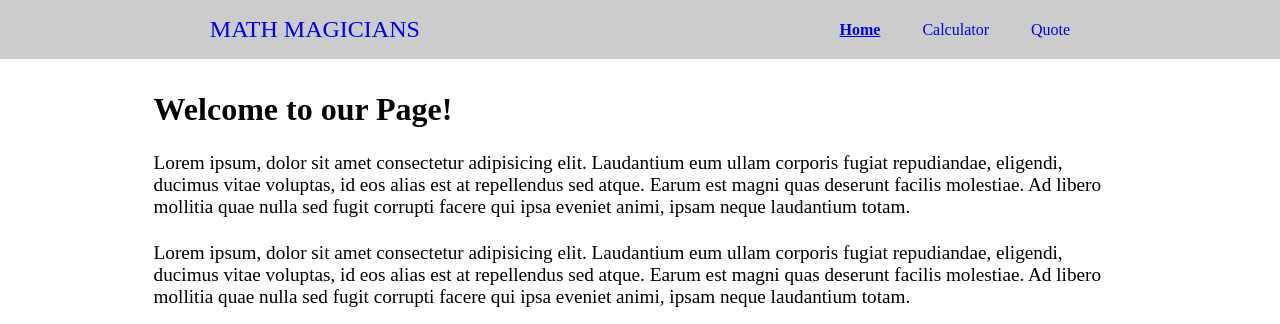
Scenario: Testing Component render correctly › NavBar interaction, quote link
The image size is (1280, 324).
Click the link "Quote": [1051, 29] box [1031,20,1070,38]
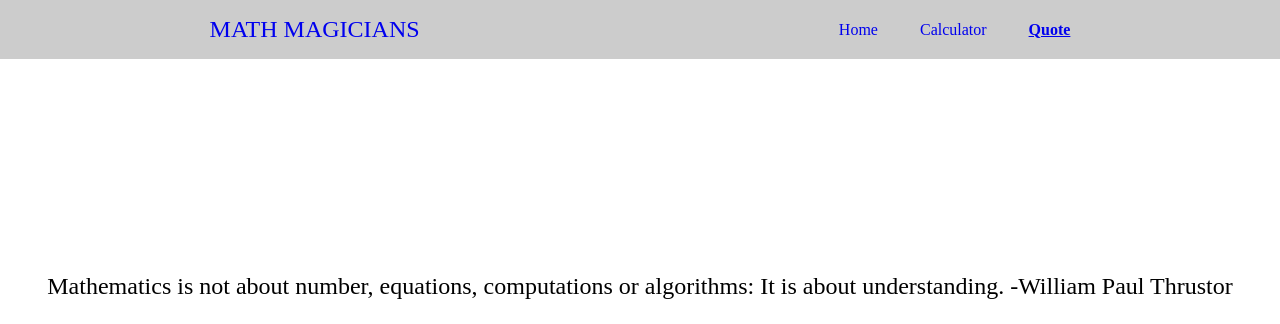
Now the text "Mathematics is not about number, equations, computations or algorithms: It is about understanding. -William Paul Thrusto" is shown, box [47,273,1233,299]
